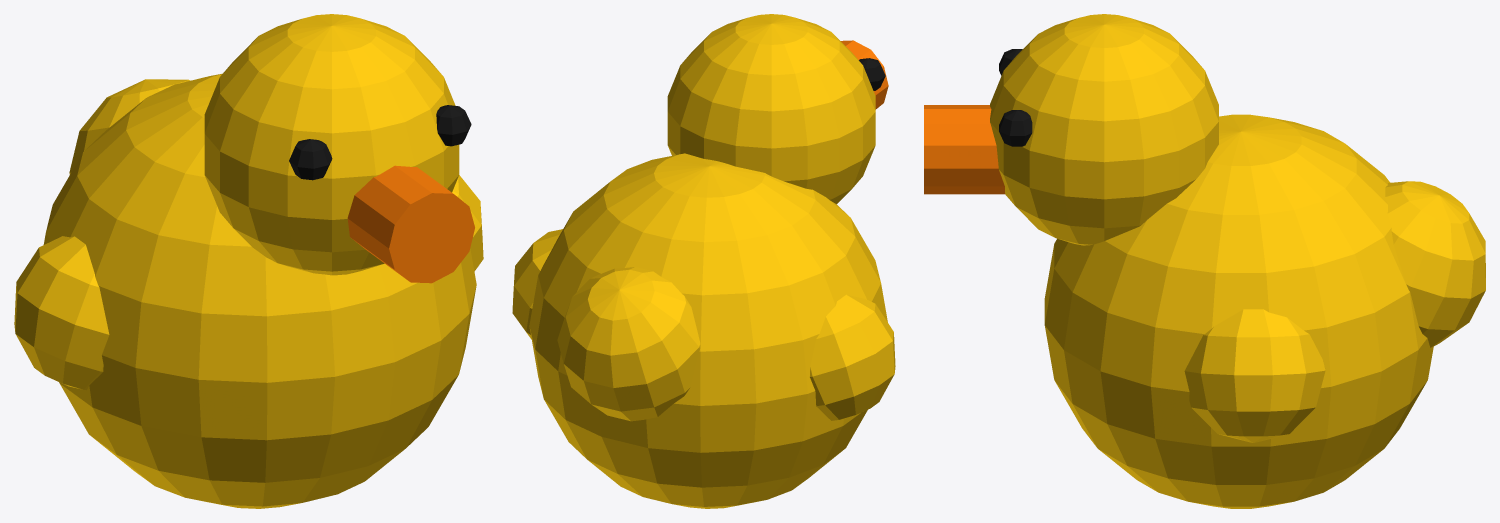
Rendered from rubber_duck.obj.
The picture shows the model from 3 angles, left to right: view 1: azimuth 30°, elevation 25°; view 2: azimuth 150°, elevation 25°; view 3: azimuth 270°, elevation 25°; orthographic projection. The views are drawn at different scales.
Parts seen in each view (by area): view 1: body, head, wing_right, beak, tail, eye_right, eye_left, wing_left; view 2: body, head, tail, wing_right, wing_left, beak, eye_right; view 3: body, head, wing_left, tail, beak, eye_left.
Boxes of the visible parts, box(x1,y1,x2,y2) form: body: box(43, 73, 476, 508); head: box(204, 14, 459, 275); wing_right: box(14, 236, 109, 390); beak: box(347, 165, 474, 283); tail: box(69, 79, 189, 174); eye_right: box(289, 139, 332, 180); eye_left: box(436, 105, 471, 146); wing_left: box(452, 175, 483, 271); body: box(529, 153, 887, 508); head: box(667, 14, 875, 204); tail: box(557, 267, 700, 421); wing_right: box(810, 294, 895, 420); wing_left: box(512, 229, 562, 339); beak: box(841, 40, 888, 109); eye_right: box(859, 58, 885, 90); body: box(1044, 114, 1433, 508); head: box(990, 14, 1218, 245); wing_left: box(1184, 309, 1325, 442); tail: box(1385, 181, 1485, 347); beak: box(924, 105, 1004, 194); eye_left: box(999, 110, 1032, 146).
Size of the model in its own units: 1.17 by 1.3 by 1.41.
Materials: 3 (3 with a texture image).
